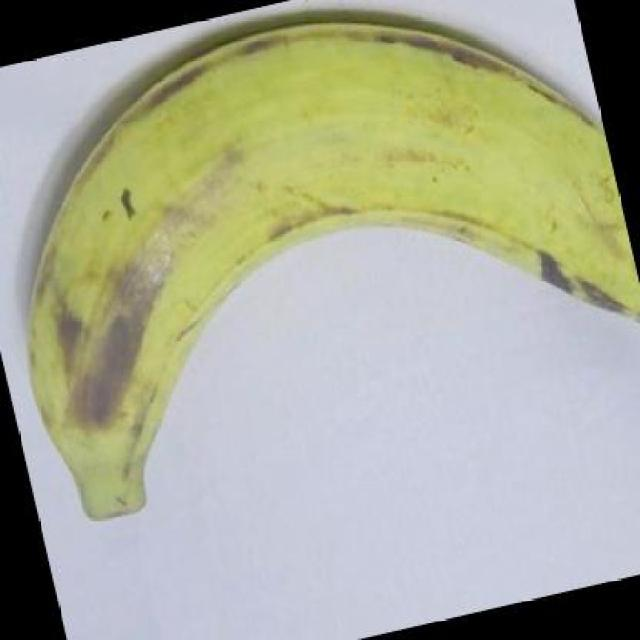Overripe: (5, 7, 640, 574)
